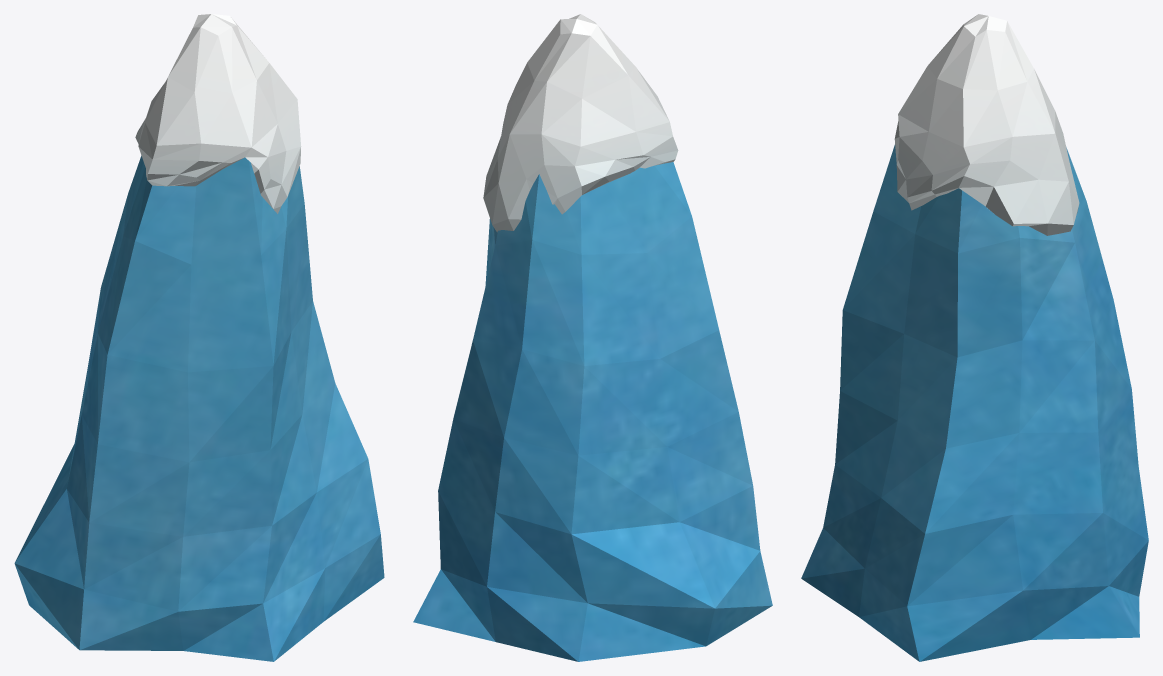
File: HX-Bingzhui1.FBX
3 renders of one model, left to right at view 1: azimuth 30°, elevation 25°; view 2: azimuth 150°, elevation 25°; view 3: azimuth 270°, elevation 25°, orthographic.
Parts seen in each view (by area): view 1: bingzhui1, jixue7; view 2: bingzhui1, jixue7; view 3: bingzhui1, jixue7.
Part boxes in pixels (left/top/right/bottom): bingzhui1: left=14, top=155, right=384, bottom=661; jixue7: left=135, top=14, right=301, bottom=213; bingzhui1: left=413, top=162, right=772, bottom=661; jixue7: left=483, top=14, right=678, bottom=232; bingzhui1: left=801, top=145, right=1148, bottom=661; jixue7: left=894, top=14, right=1079, bottom=235.
Size of the model in its own units: 367 by 655 by 358.
